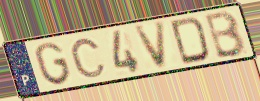4: (111, 27, 141, 75)
B: (204, 9, 248, 60)
C: (69, 37, 107, 79)
D: (168, 15, 212, 67)
G: (33, 40, 74, 87)
V: (133, 19, 168, 72)
